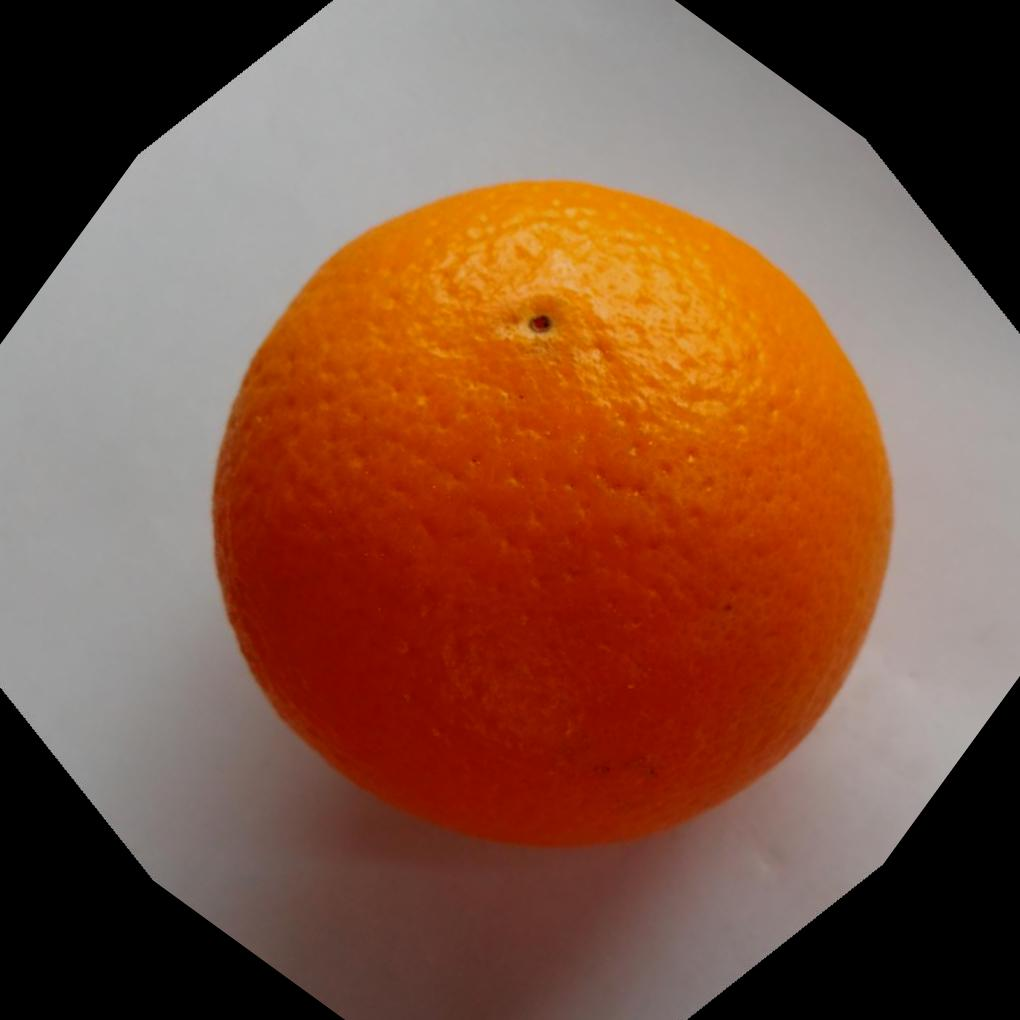FreshGuava: (212, 178, 900, 853)
